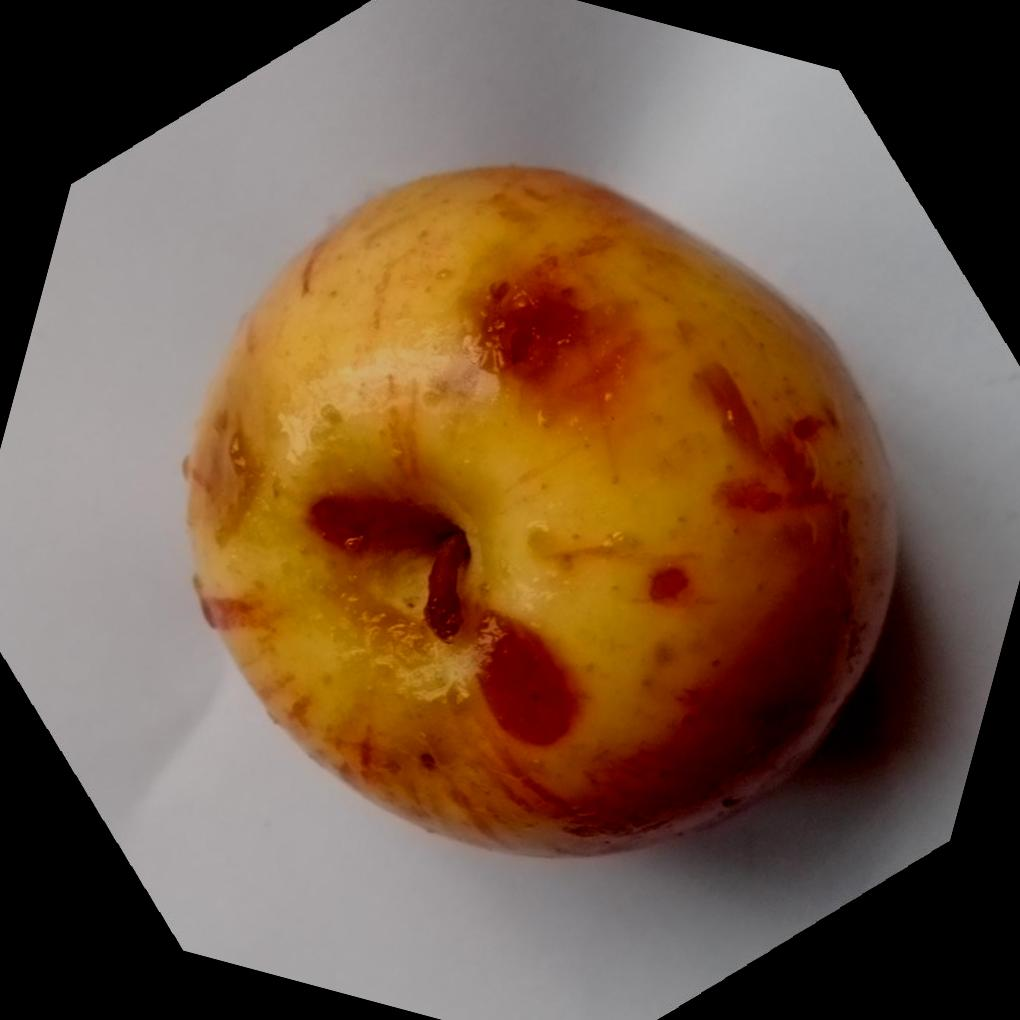FreshOrange: (177, 162, 900, 860)
